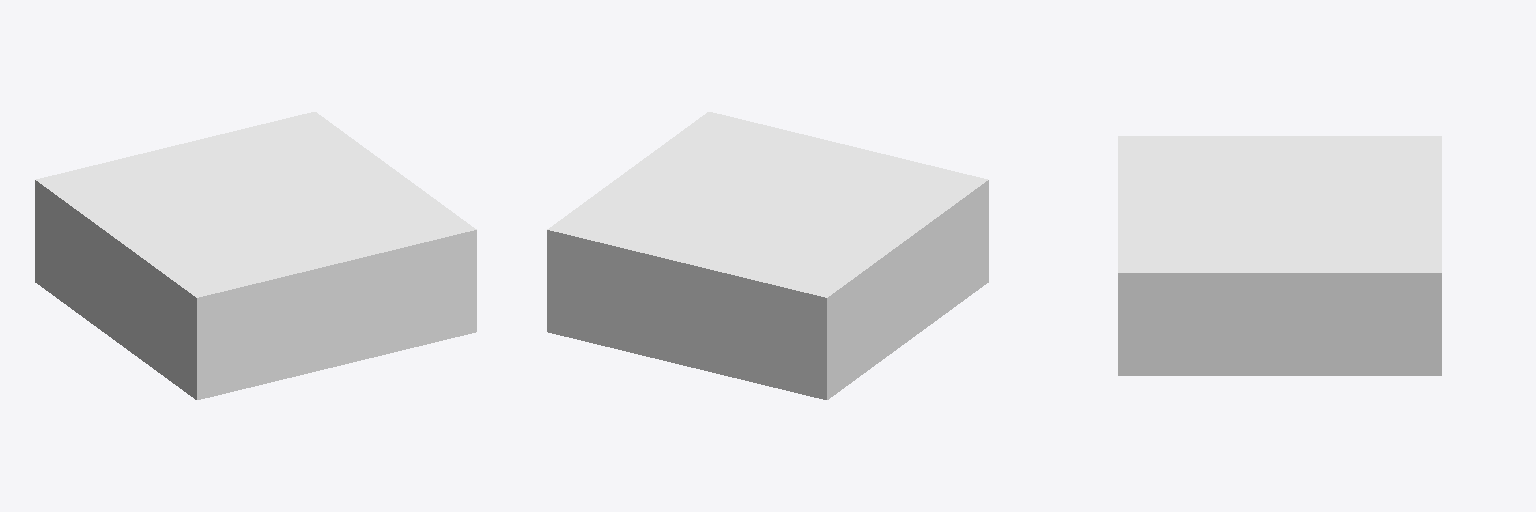
File: block1.4.obj
The picture shows the model from 3 angles: view 1: azimuth 30°, elevation 25°; view 2: azimuth 150°, elevation 25°; view 3: azimuth 270°, elevation 25°; orthographic projection.
Visible parts, largest first — view 1: object 1; view 2: object 1; view 3: object 1.
Part boxes in pixels (left/top/right/bottom): object 1: left=35, top=112, right=476, bottom=399; object 1: left=547, top=112, right=988, bottom=399; object 1: left=1118, top=136, right=1441, bottom=375.
Bounding box in the file's own units: 4 × 1.4 × 4.